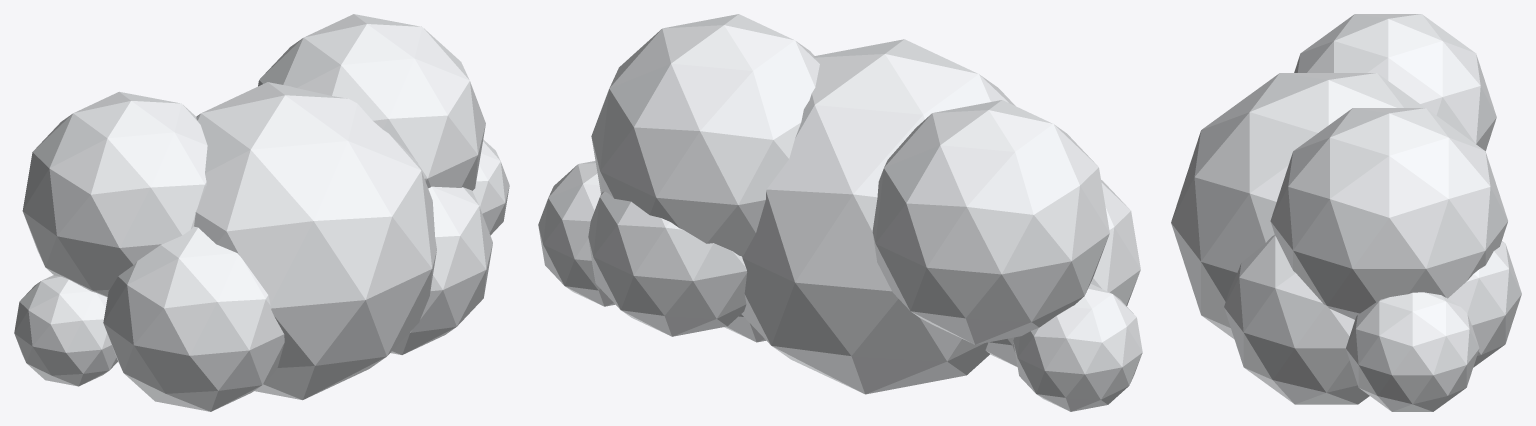
File: Environment_Objects_Cloud_02.fbx
The picture shows the model from 3 angles, left to right: view 1: azimuth 30°, elevation 25°; view 2: azimuth 150°, elevation 25°; view 3: azimuth 270°, elevation 25°; orthographic projection. The views are drawn at different scales.
Parts seen in each view (by area): view 1: Environment_Objects_Cloud_02; view 2: Environment_Objects_Cloud_02; view 3: Environment_Objects_Cloud_02.
Boxes of the visible parts, x1=… form: Environment_Objects_Cloud_02: x1=14, y1=14, x2=509, y2=411; Environment_Objects_Cloud_02: x1=538, y1=14, x2=1142, y2=411; Environment_Objects_Cloud_02: x1=1171, y1=14, x2=1521, y2=411.
Bounding box in the file's own units: 1507 × 903 × 939.
